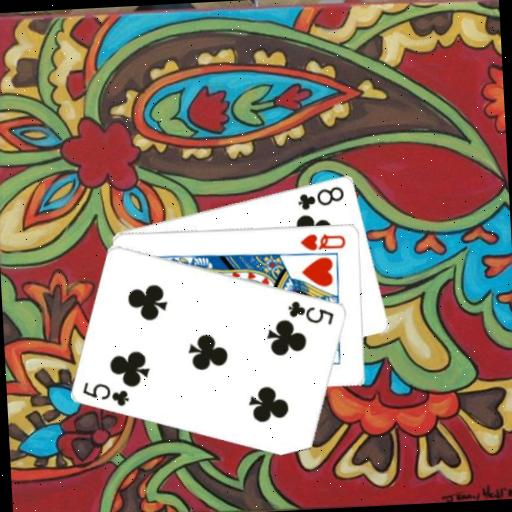5C: (285, 295, 337, 328), (80, 377, 132, 410)
8C: (295, 182, 347, 212)
QH: (298, 229, 349, 253)
